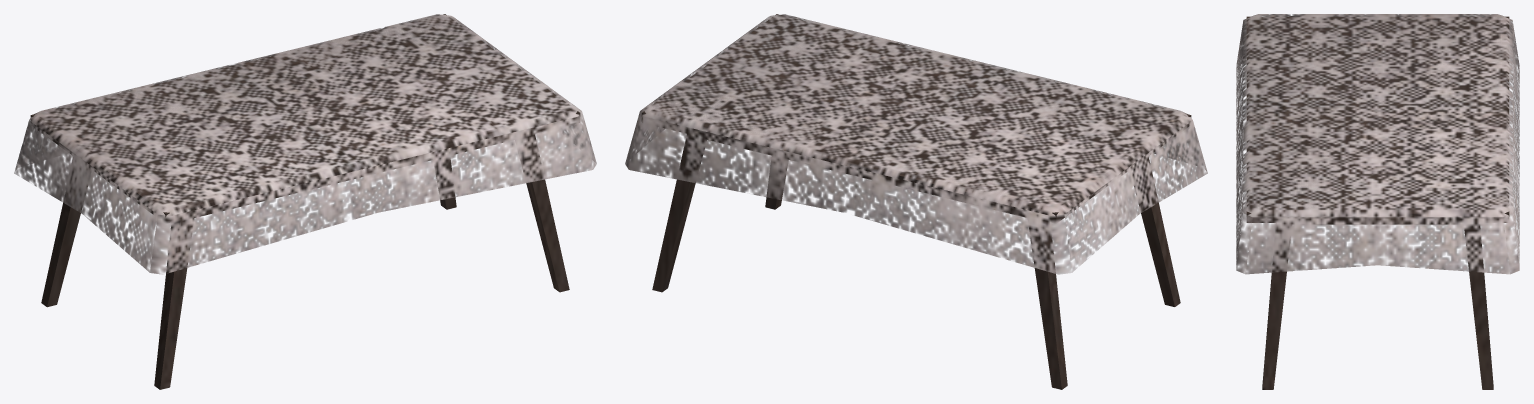
The model's file is Table_02-col.glb.
The picture shows the model from 3 angles, left to right: view 1: azimuth 30°, elevation 25°; view 2: azimuth 150°, elevation 25°; view 3: azimuth 270°, elevation 25°; orthographic projection. The views are drawn at different scales.
Visible parts, largest first — view 1: Table_02-col; view 2: Table_02-col; view 3: Table_02-col.
Part boxes in pixels (x1,y1,x2,y2): Table_02-col: (14,14,596,389); Table_02-col: (625,14,1207,389); Table_02-col: (1236,14,1519,389).
Size of the model in its own units: 2.12 by 0.8416 by 1.2.
1 material, 1 textured.
